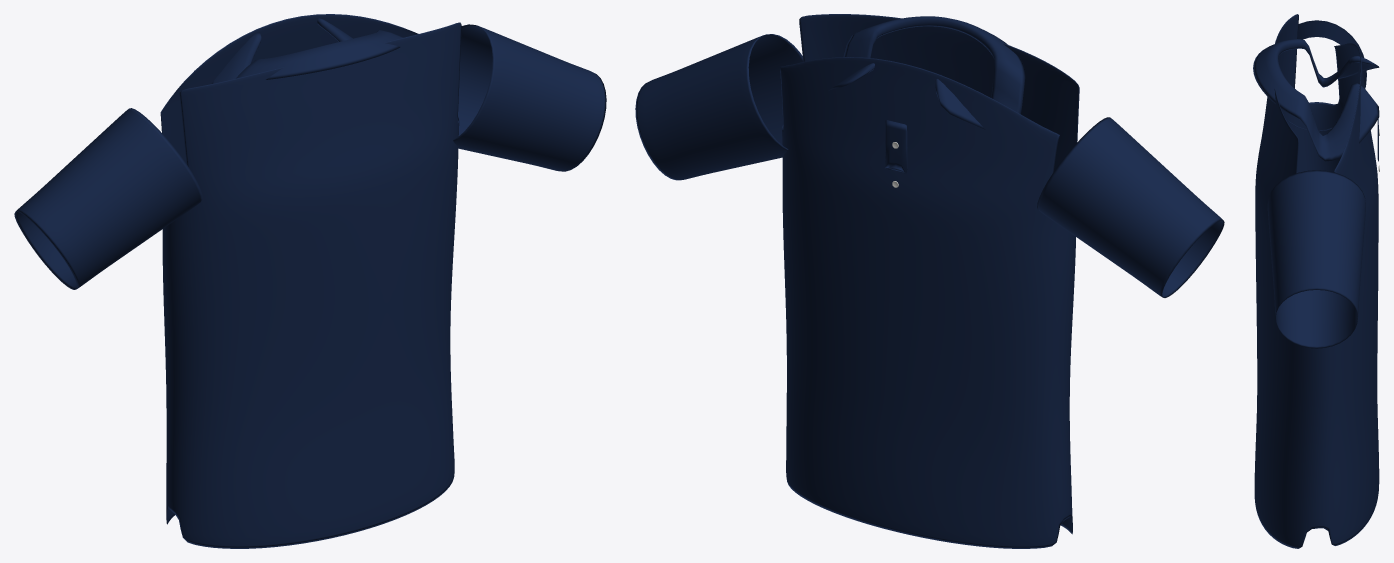
Rendered from polo_master_base.glb.
3 renders of one model, left to right at view 1: azimuth 30°, elevation 25°; view 2: azimuth 150°, elevation 25°; view 3: azimuth 270°, elevation 25°, orthographic. The views are drawn at different scales.
Visible parts, largest first — view 1: PoloTShirt; view 2: PoloTShirt; view 3: PoloTShirt.
Part boxes in pixels (<box>): PoloTShirt: <box>14,14,606,548</box>; PoloTShirt: <box>635,14,1224,548</box>; PoloTShirt: <box>1253,14,1379,548</box>.
Size of the model in its own units: 0.9142 by 0.7387 by 0.1925.
